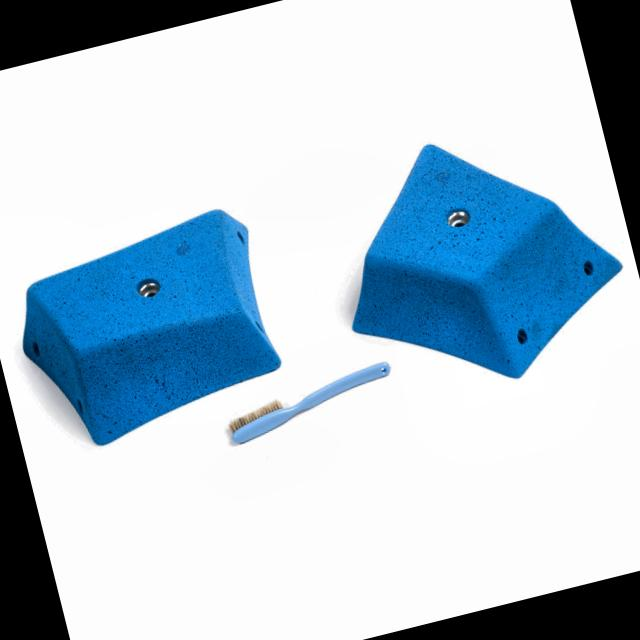Hold: (313, 102, 640, 414), (0, 198, 301, 458)
